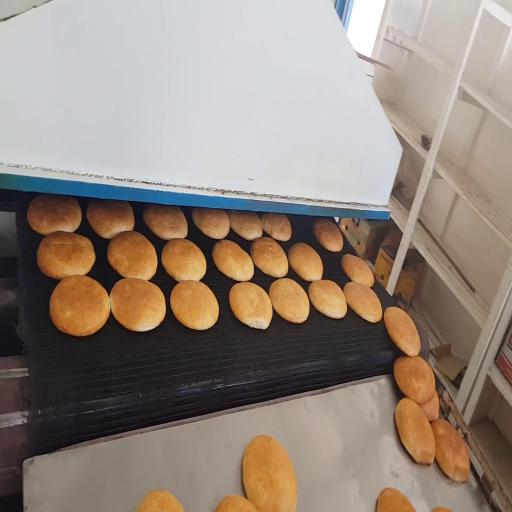bread: (243, 436, 297, 511), (50, 276, 110, 336), (110, 278, 165, 331), (37, 232, 95, 279), (395, 398, 435, 464), (108, 231, 157, 280), (432, 419, 470, 482), (171, 281, 218, 330), (27, 195, 81, 235), (229, 283, 272, 329), (394, 357, 435, 404), (87, 199, 134, 239), (162, 239, 206, 281), (269, 278, 309, 323), (384, 307, 420, 356), (212, 240, 253, 281), (343, 282, 382, 322), (250, 237, 288, 278), (143, 204, 187, 239), (308, 280, 347, 318), (288, 243, 323, 281), (192, 208, 229, 239), (342, 255, 374, 287), (227, 211, 262, 240), (314, 219, 343, 252), (137, 491, 182, 511), (377, 488, 414, 511), (261, 213, 291, 241), (215, 495, 257, 511), (420, 393, 439, 421), (433, 507, 451, 511)
